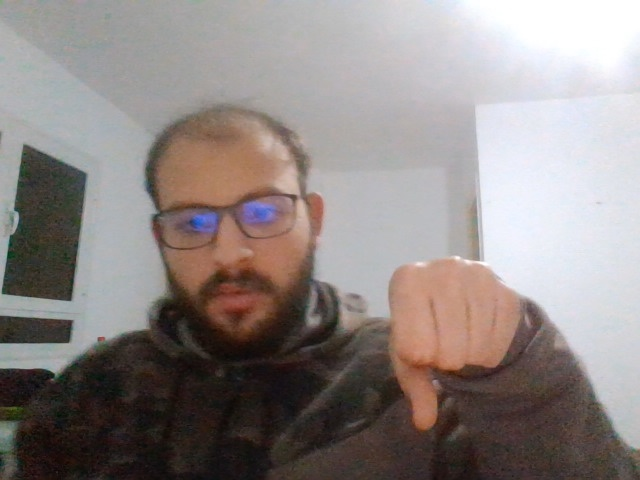Yes: (392, 258, 511, 426)
